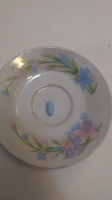Apranax: (45, 100, 55, 117)
